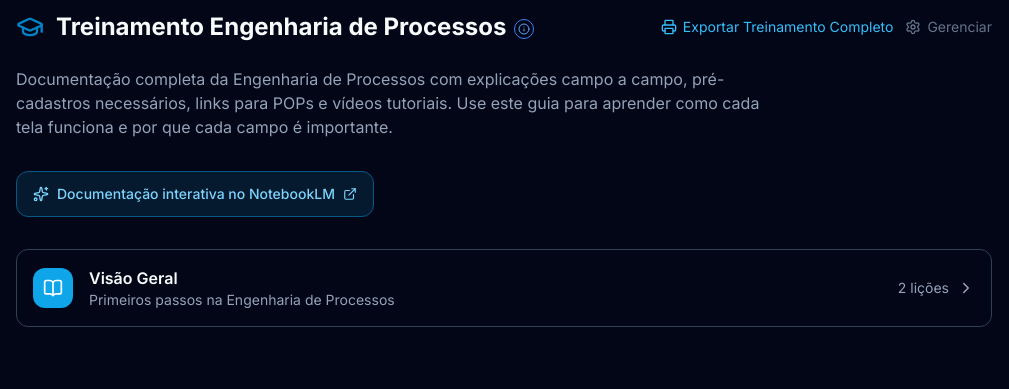
TreinamentoPage › expande o módulo ao clicar e mostra as lições ativas
This screenshot has width=1009, height=389.
Click the button "Visão Geral": coordinates (53, 288) left=17, top=250, right=991, bottom=326
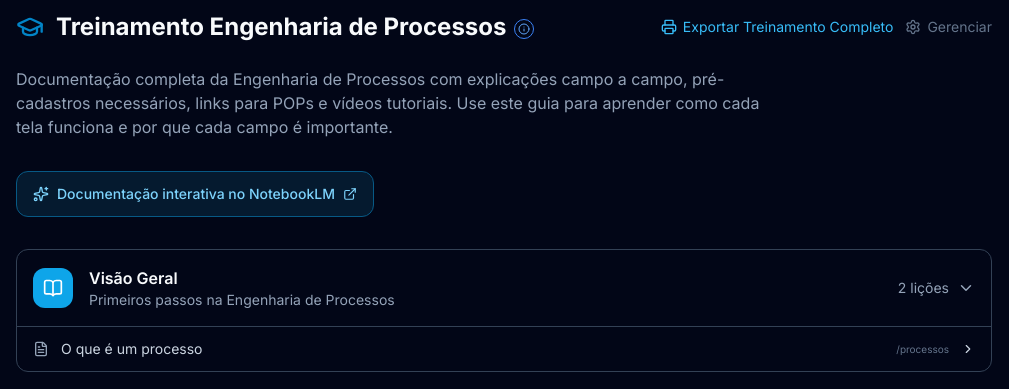
Now the text "O que é um processo" is shown, box left=61, top=339, right=202, bottom=359
